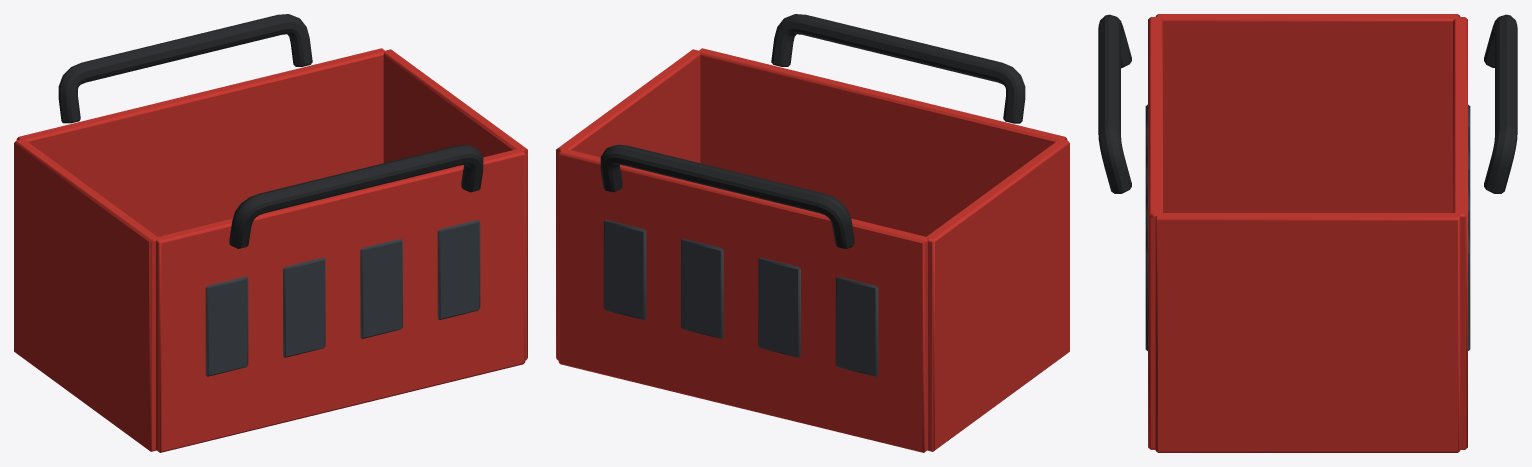
File: basket.glb
3 renders of one model, left to right at view 1: azimuth 30°, elevation 25°; view 2: azimuth 150°, elevation 25°; view 3: azimuth 270°, elevation 25°, orthographic. The views are drawn at different scales.
Visible parts, largest first — view 1: basket; view 2: basket; view 3: basket.
Part boxes in pixels (x1,y1,x2,y2): basket: (14,14,527,452); basket: (556,14,1069,452); basket: (1098,14,1517,452).
Bounding box in the file's own units: 1.96 × 1.25 × 1.69.
